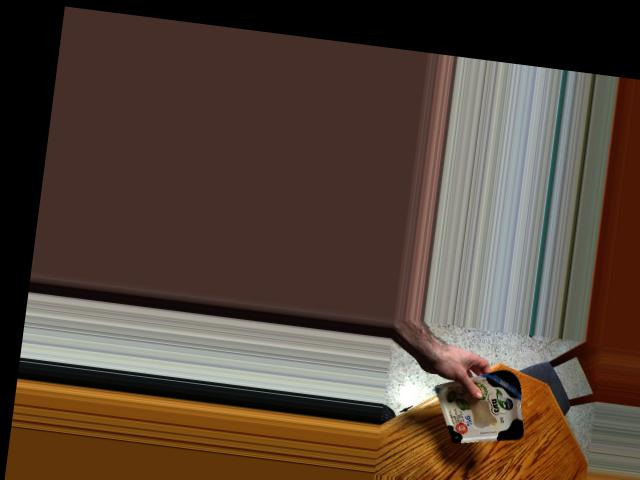cheese: (443, 366, 528, 449)
